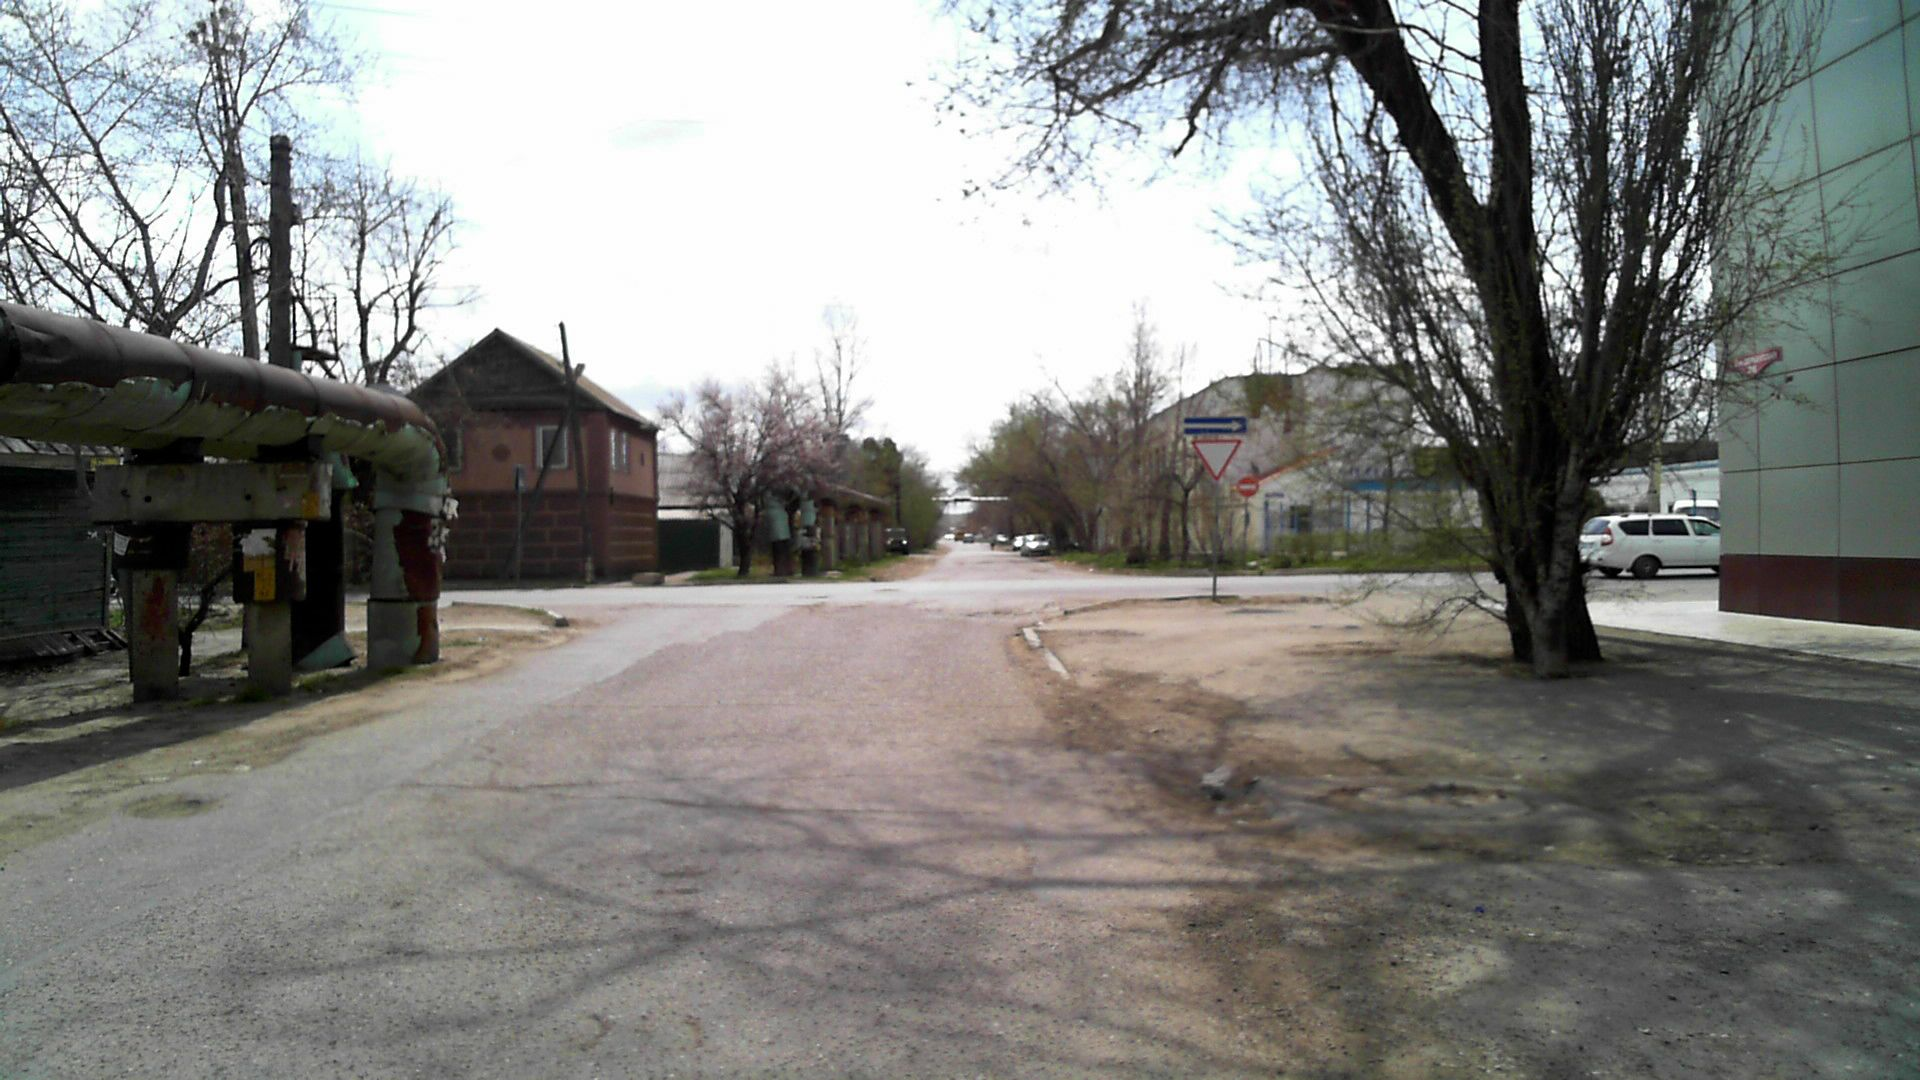One-Way Traffic: (1183, 417, 1247, 435)
